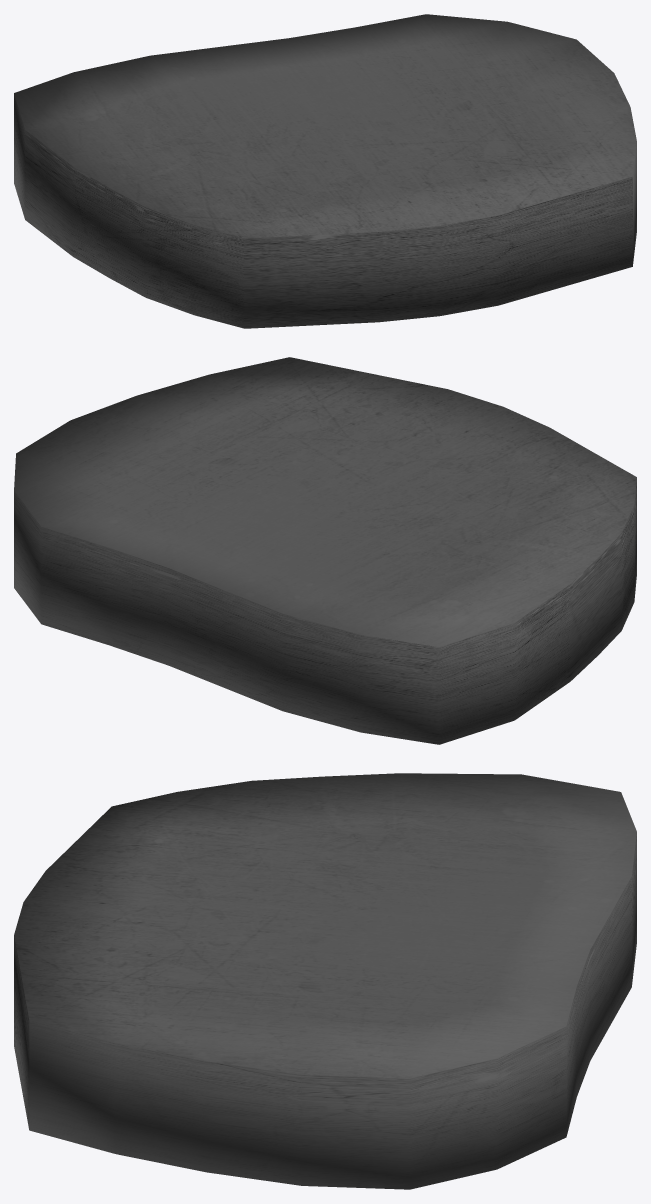
File: Sodium.fbx
3 renders of one model, top to bottom at view 1: azimuth 30°, elevation 25°; view 2: azimuth 150°, elevation 25°; view 3: azimuth 270°, elevation 25°, orthographic. The views are drawn at different scales.
Parts seen in each view (by area): view 1: Sodium; view 2: Sodium; view 3: Sodium.
Part boxes in pixels (x1,y1,x2,y2): Sodium: (14,14,636,328); Sodium: (14,357,636,744); Sodium: (14,773,636,1189).
Bounding box in the file's own units: 376 × 63.74 × 324.
